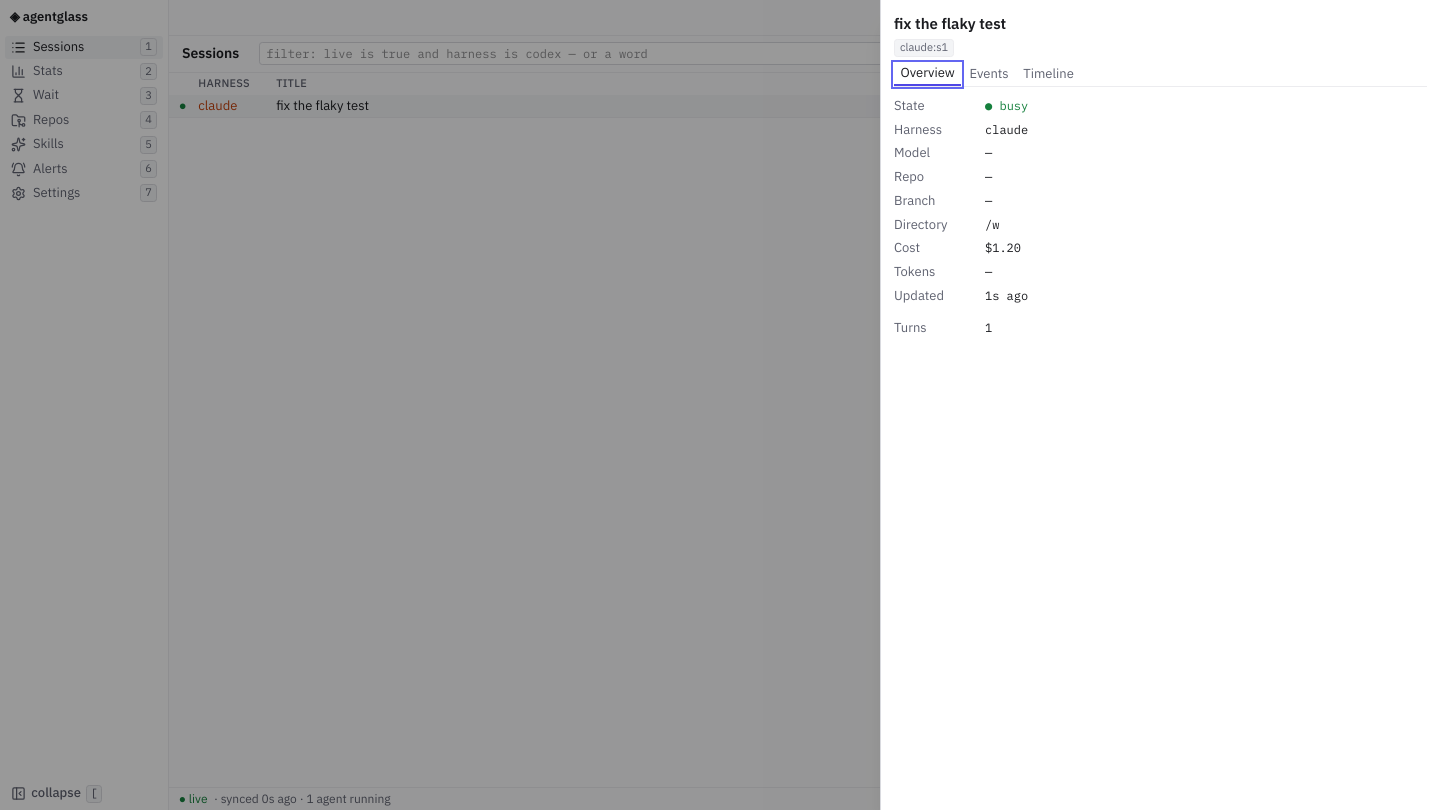
Test: an empty graph says so
Click the tab "timeline". click: (1049, 75)
box: [1017,63,1080,86]
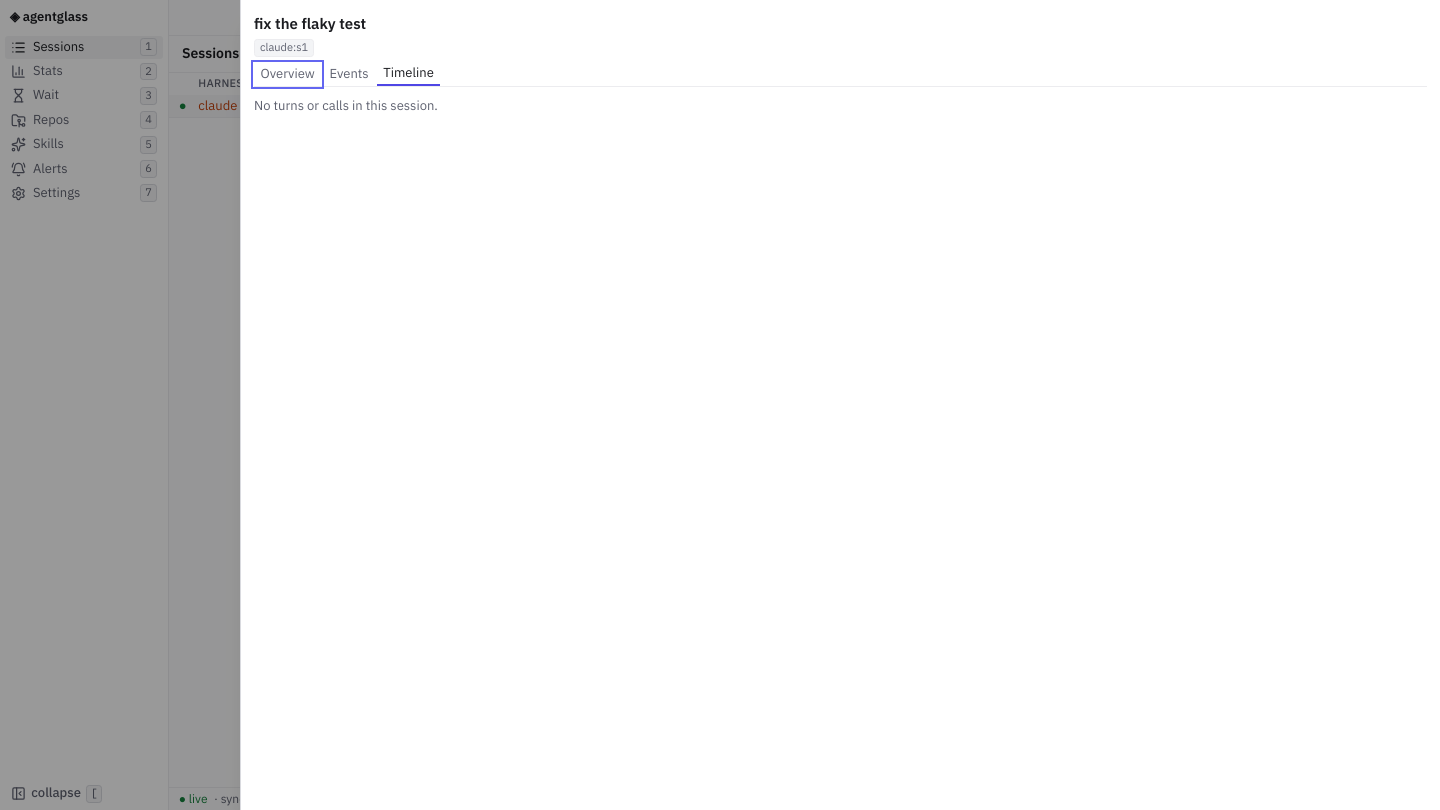
Now the text "No turns or calls in this session." is shown, box [254,97,438,114]
